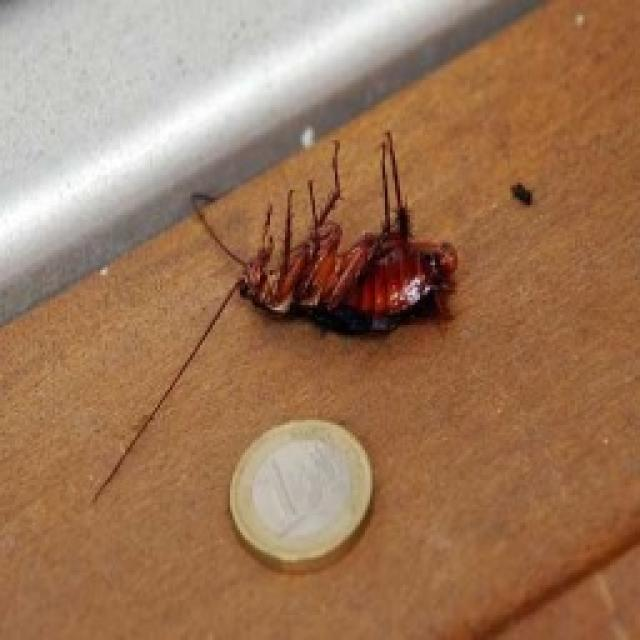cockroach: (212, 174, 474, 370)
